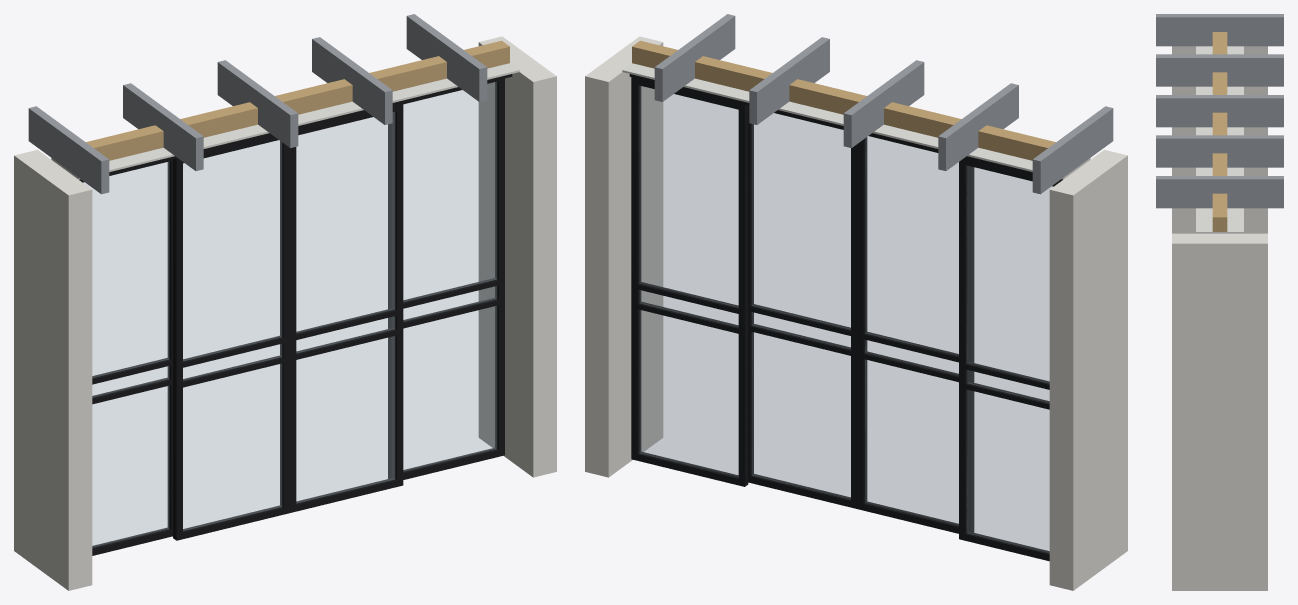
Rendered from glass-sliding-doors-haringey.glb.
3 views of the same model, side by side, from view 1: azimuth 30°, elevation 25°; view 2: azimuth 150°, elevation 25°; view 3: azimuth 270°, elevation 25° (orthographic). The views are drawn at different scales.
Visible parts, largest first — view 1: Room: Wall, left, Room: Wall, right, Panel 2 (slides left): Glass, top, Panel 3 (slides right): Glass, top, Panel 4 (fixed): Glass, top, Panel 1 (fixed): Glass, top, Panel 2 (slides left): Glass, bottom, Panel 3 (slides right): Glass, bottom, Panel 4 (fixed): Glass, bottom, Panel 1 (fixed): Glass, bottom, Panel 2 (slides left): Frame, Panel 3 (slides right): Frame (+18 smaller); view 2: Room: Wall, left, Room: Wall, right, Panel 4 (fixed): Glass, top, Panel 3 (slides right): Glass, top, Panel 2 (slides left): Glass, top, Panel 1 (fixed): Glass, top, Panel 4 (fixed): Glass, bottom, Panel 3 (slides right): Glass, bottom, Panel 2 (slides left): Glass, bottom, Panel 1 (fixed): Glass, bottom, Panel 4 (fixed): Frame, Panel 2 (slides left): Frame (+18 smaller); view 3: Room: Wall, right, Room: Steel joist 2, Room: Steel joist 4, Room: Steel joist 1, Room: Steel joist 3, Room: Steel joist 5, Room: Wall, left, Plasterboard strip, Timber 5, Timber 3, Timber 2, Timber 4 (+1 smaller).
Part boxes in pixels (x1,y1,x2,y2): Room: Wall, left: (14,149,92,590); Room: Wall, right: (478,36,556,477); Panel 2 (slides left): Glass, top: (183,140,281,360); Panel 3 (slides right): Glass, top: (296,112,394,332); Panel 4 (fixed): Glass, top: (403,82,496,301); Panel 1 (fixed): Glass, top: (83,162,169,377); Panel 2 (slides left): Glass, bottom: (183,364,281,530); Panel 3 (slides right): Glass, bottom: (296,336,394,502); Panel 4 (fixed): Glass, bottom: (403,306,496,471); Panel 1 (fixed): Glass, bottom: (92,386,169,547); Panel 2 (slides left): Frame: (173,135,289,540); Panel 3 (slides right): Frame: (290,103,403,512); Room: Wall, left: (1049,149,1127,590); Room: Wall, right: (585,36,663,477); Panel 4 (fixed): Glass, top: (639,86,738,307); Panel 3 (slides right): Glass, top: (752,113,850,329); Panel 2 (slides left): Glass, top: (865,136,958,355); Panel 1 (fixed): Glass, top: (967,166,1052,382); Panel 4 (fixed): Glass, bottom: (639,310,738,476); Panel 3 (slides right): Glass, bottom: (752,332,850,498); Panel 2 (slides left): Glass, bottom: (865,359,958,525); Panel 1 (fixed): Glass, bottom: (967,390,1049,552); Panel 4 (fixed): Frame: (631,77,748,486); Panel 2 (slides left): Frame: (857,135,974,533); Room: Wall, right: (1172,233,1267,590); Room: Steel joist 2: (1156,54,1283,86); Room: Steel joist 4: (1156,135,1283,167); Room: Steel joist 1: (1156,14,1283,46); Room: Steel joist 3: (1156,95,1283,127); Room: Steel joist 5: (1156,176,1283,208); Room: Wall, left: (1172,46,1267,233); Plasterboard strip: (1196,46,1243,233); Timber 5: (1212,193,1227,231); Timber 3: (1212,112,1227,135); Timber 2: (1212,72,1227,94); Timber 4: (1212,153,1227,175).
Size of the model in its own units: 3.1 by 2.61 by 0.8.
